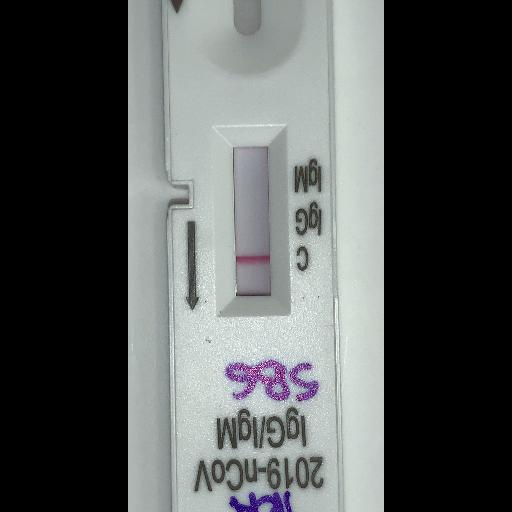Neg: (159, 0, 343, 510)
